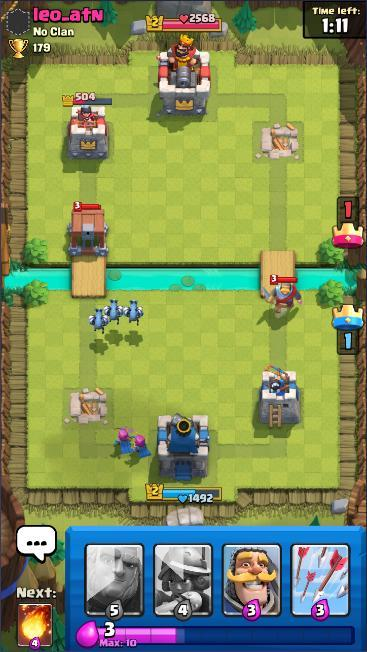ally_archer: (112, 425, 135, 457), (130, 431, 153, 459)
ally_minion: (120, 298, 147, 328), (87, 305, 111, 337), (103, 296, 125, 326)
enemy_goblin_cage: (66, 201, 112, 259)
enemy_knight: (260, 273, 305, 316)
